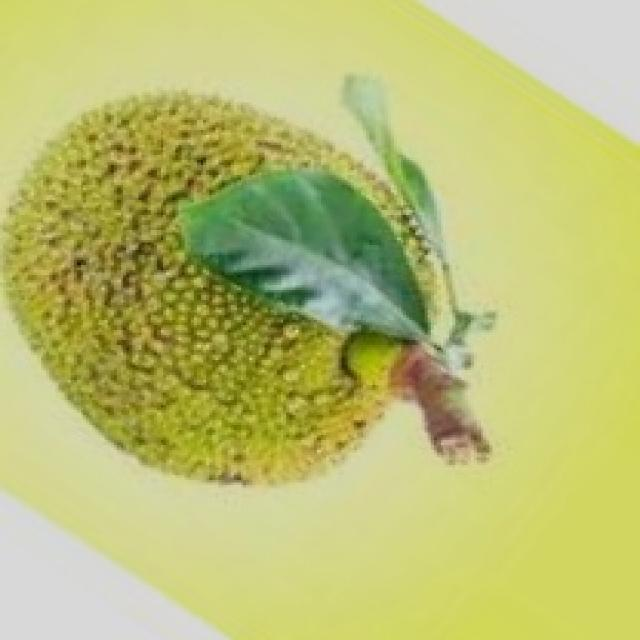Fruit: (0, 53, 382, 455)
